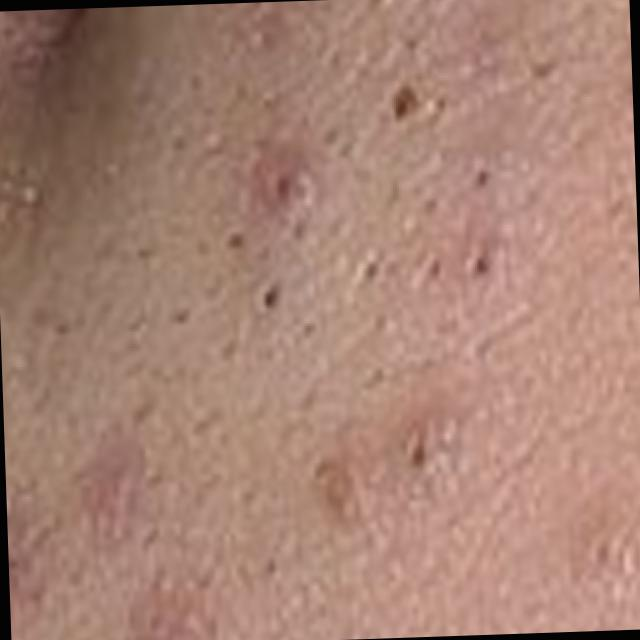blackhead: (400, 82, 426, 111), (529, 60, 558, 81), (310, 457, 336, 480), (362, 252, 381, 282), (289, 216, 308, 244), (392, 93, 409, 123), (430, 89, 450, 114), (402, 32, 421, 54), (373, 314, 395, 332), (594, 542, 610, 566), (410, 444, 426, 467), (300, 316, 314, 341), (224, 231, 243, 249), (263, 554, 278, 576), (322, 128, 339, 147), (473, 256, 489, 276), (426, 260, 442, 280), (372, 364, 387, 385), (261, 290, 277, 308), (173, 308, 190, 324), (474, 170, 488, 188), (136, 246, 154, 260), (52, 322, 68, 337)
